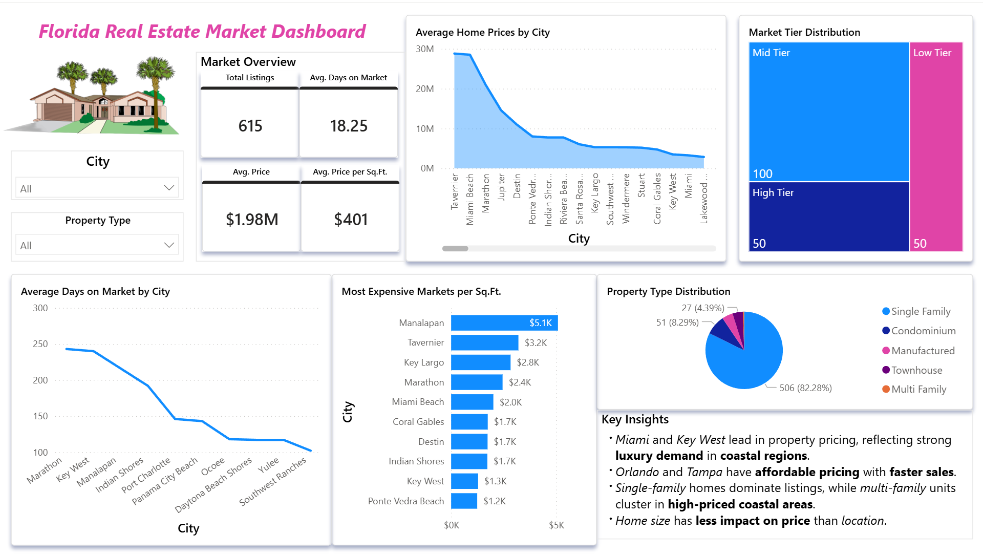

What the dashboard file says about the page in this screenshot:
{"tool":"powerbi","page":{"name":"Page 1","canvas":[1280,720],"ordinal":0},"visuals":[{"type":"areaChart","title":"Average Home Prices by City","fields":{"Category":["AvgPriceByCity.city"],"Y":["Sum(AvgPriceByCity.avg_price_by_city)"]},"box":[528,16,416,320],"z":0},{"type":"barChart","title":"Most Expensive Markets per Sq.Ft.","fields":{"Y":["Sum(PricePerSqFt.avg_price_per_sqft_by_city)","select"],"Category":["PricePerSqFt.city"]},"box":[496,352,304,352],"z":1000},{"type":"textbox","title":"Market Overview","box":[256,64,272,272],"z":2000},{"type":"pieChart","title":"Property Type Distribution","fields":{"Category":["PropertyTypeDist.Property_type"],"Y":["Sum(PropertyTypeDist.count_property_types)"]},"box":[816,352,448,176],"z":3000},{"type":"lineChart","title":"Average Days on Market by City","fields":{"Category":["AvgDaysOnZillow.city"],"Y":["Sum(AvgDaysOnZillow.avg_days_on_zillow_by_city)"]},"box":[128,352,352,352],"z":4000},{"type":"treemap","title":"Market Tier Distribution","fields":{"Group":["MarketTierSegmentation.price_tier"],"Values":["CountNonNull(MarketTierSegmentation.avg_prop_price)"]},"box":[960,16,304,320],"z":5000},{"type":"cardVisual","title":"Total Listings","fields":{"Data":["CountNonNull(zillow_properties_florida.Listing description)"]},"box":[262,88.9,128,112],"z":6000},{"type":"slicer","title":"City","fields":{"Values":["AvgPriceByCity.city"]},"box":[16,192,224,64],"z":7000},{"type":"cardVisual","title":"Avg. Bathrooms","fields":{"Data":["Avg(zillow_properties_florida.Bathrooms)"]},"box":[16,528,96,112],"z":8000},{"type":"cardVisual","title":"Avg. Price","fields":{"Data":["Avg(zillow_properties_florida.Property price (USD))"]},"box":[263.6,210.7,128,112],"z":9000},{"type":"image","box":[0,64,240,112],"z":10000},{"type":"textbox","title":"Key Insights","box":[784,528,480,176],"z":11000},{"type":"cardVisual","title":"Avg. Days on Market","fields":{"Data":["Avg(zillow_properties_florida.Number of days on Zillow)"]},"box":[390,88.9,128,112],"z":12000},{"type":"textbox","box":[16,16,496,48],"z":13000},{"type":"slicer","title":"Property Type","fields":{"Values":["PropertyTypeDist.Property_type"]},"box":[16,272,224,64],"z":14000},{"type":"cardVisual","title":"Avg. Price per Sq.Ft.","fields":{"Data":["Avg(PricePerSqFt.avg_price_per_sqft_by_city)"]},"box":[391.6,210.7,128,112],"z":15000},{"type":"cardVisual","title":"Avg. Bedrooms","fields":{"Data":["Avg(zillow_properties_florida.Bedrooms)"]},"box":[16,384,96,112],"z":16000}]}

Visuals, with their boxes in screenshot pixels (x1, y1, x2, y2), scaled from the page's 1280x720 canvas onto the 983x557 screenshot:
"Average Home Prices by City" areaChart: (405,12,725,260)
"Most Expensive Markets per Sq.Ft." barChart: (381,272,614,545)
"Market Overview" textbox: (197,50,405,260)
"Property Type Distribution" pieChart: (627,272,971,408)
"Average Days on Market by City" lineChart: (98,272,369,545)
"Market Tier Distribution" treemap: (737,12,971,260)
"Total Listings" cardVisual: (201,69,300,155)
"City" slicer: (12,149,184,198)
"Avg. Bathrooms" cardVisual: (12,408,86,495)
"Avg. Price" cardVisual: (202,163,301,250)
image: (0,50,184,136)
"Key Insights" textbox: (602,408,971,545)
"Avg. Days on Market" cardVisual: (300,69,398,155)
textbox: (12,12,393,50)
"Property Type" slicer: (12,210,184,260)
"Avg. Price per Sq.Ft." cardVisual: (301,163,399,250)
"Avg. Bedrooms" cardVisual: (12,297,86,384)
